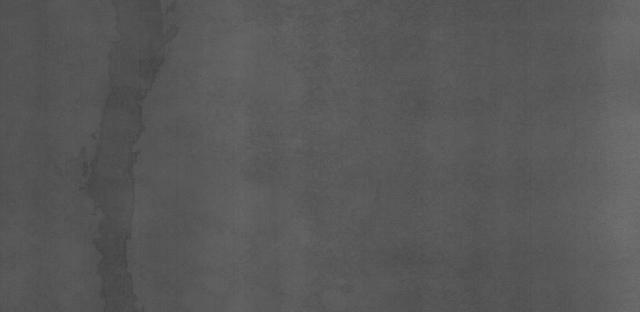water_spot: (78, 15, 179, 276)
